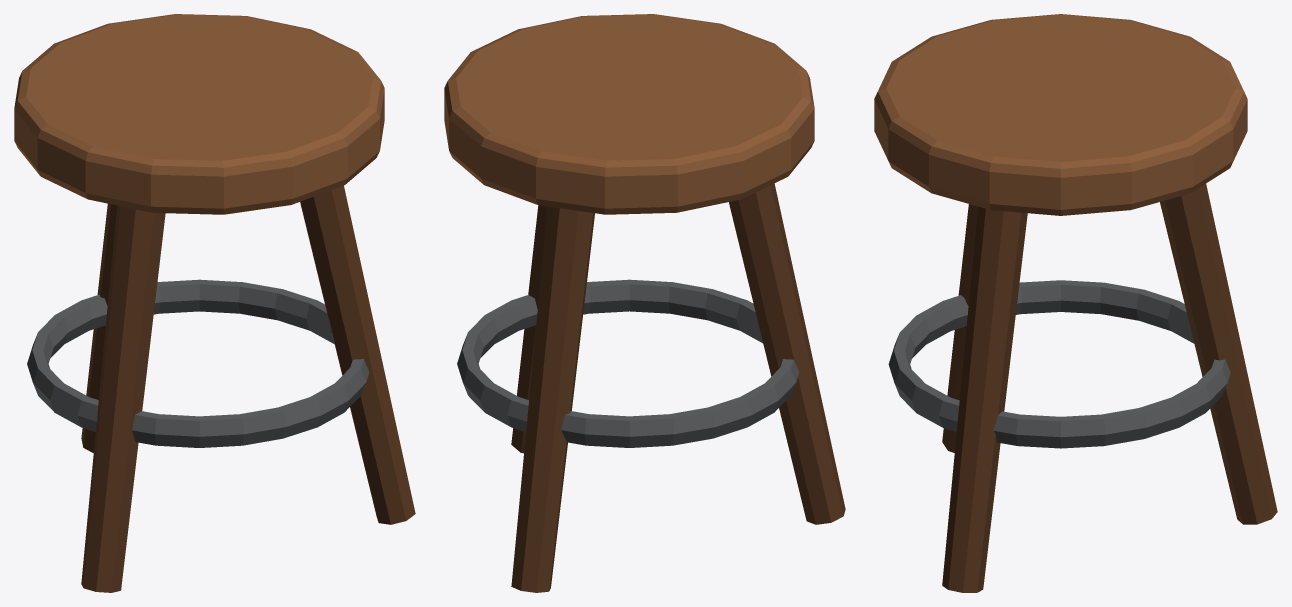
The model's file is wooden-stool_final.glb.
The picture shows the model from 3 angles, left to right: view 1: azimuth 30°, elevation 25°; view 2: azimuth 150°, elevation 25°; view 3: azimuth 270°, elevation 25°; orthographic projection.
Parts seen in each view (by area): view 1: SM_WoodenStool_Seat, SM_WoodenStool, SM_WoodenStool_Band; view 2: SM_WoodenStool_Seat, SM_WoodenStool, SM_WoodenStool_Band; view 3: SM_WoodenStool_Seat, SM_WoodenStool, SM_WoodenStool_Band.
Boxes of the visible parts, x1,y1,x2,y2 form: SM_WoodenStool_Seat: [14, 14, 384, 214]; SM_WoodenStool: [81, 185, 415, 592]; SM_WoodenStool_Band: [27, 279, 369, 447]; SM_WoodenStool_Seat: [444, 14, 814, 214]; SM_WoodenStool: [511, 183, 845, 592]; SM_WoodenStool_Band: [457, 279, 799, 447]; SM_WoodenStool_Seat: [874, 14, 1247, 215]; SM_WoodenStool: [942, 184, 1277, 592]; SM_WoodenStool_Band: [888, 280, 1230, 448].
Bounding box in the file's own units: 0.3878 × 0.4843 × 0.4106.
